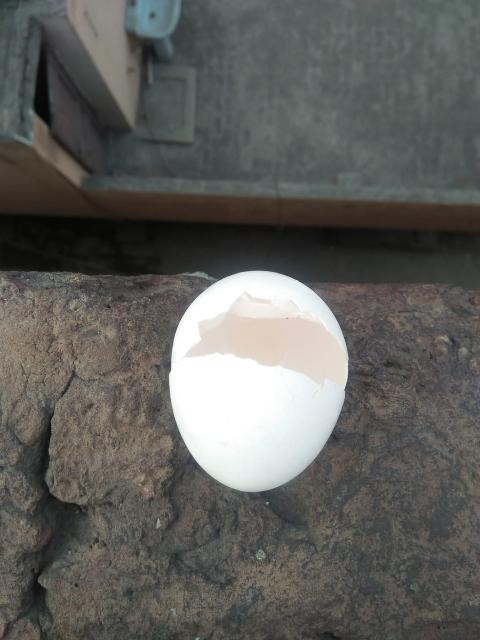Roto: (168, 269, 349, 493)
